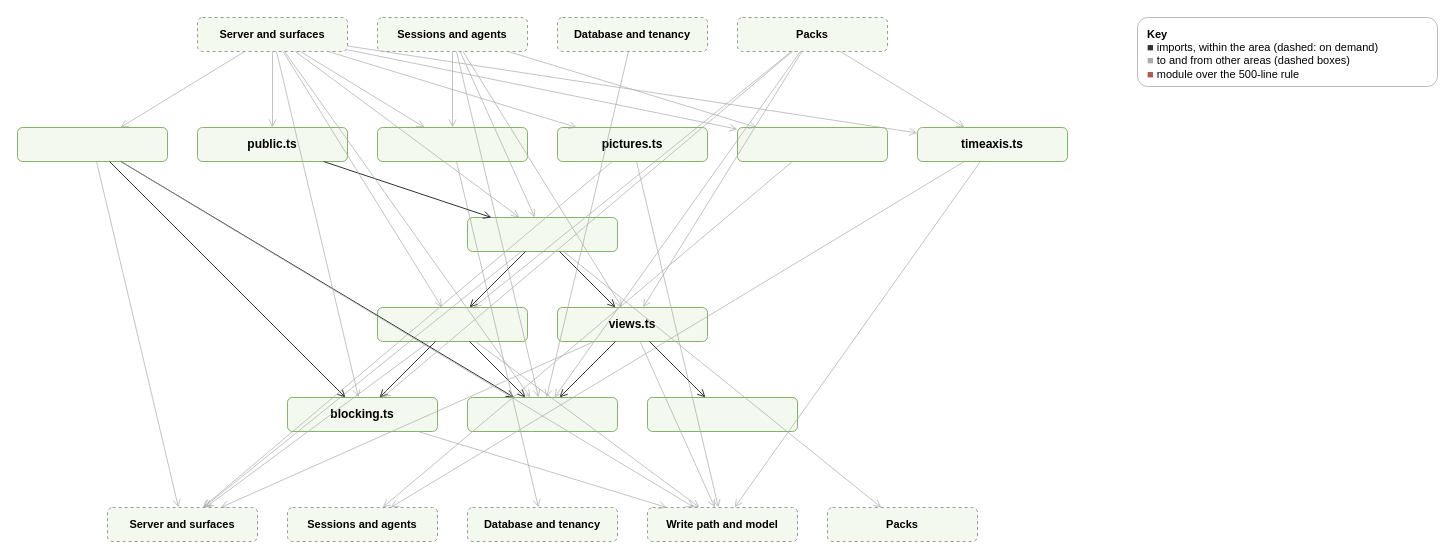
Image size: 1455x559. Some labels were removed from this diagram. The shapes that lost their labels are listed below. From the top down, each one's centre as x and y in pixels, then its label:
point (92, 144): brief.ts
point (452, 144): documents.ts
point (812, 144): presence.ts
point (542, 234): askview.ts
point (452, 324): attention.ts
point (542, 414): places.ts
point (722, 414): spent.ts
